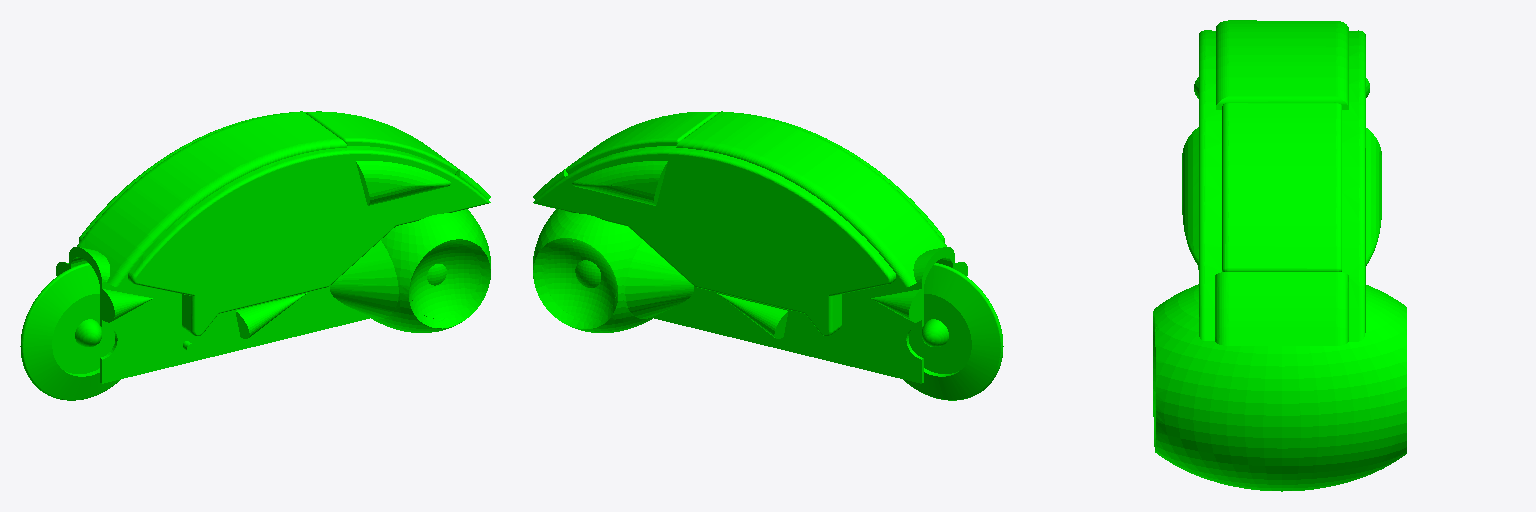
The robot description file, URDF, robot "hostile_agent":
<?xml version="1.0"?>
<robot name="hostile_agent">
  <!-- =============================================================================
       HOSTILE AGENT - AI-Controlled Sentinel Robot
       SLRC 2026 Competition | Contact: slrc@uom.lk
       Green (#00FF00) color for visual distinction
       ============================================================================= -->

  <!-- =========================
       Frames
       ========================= -->
  <!-- Unique root link name: avoids clashing with ares::base_footprint in Gazebo ECM
       (UserCommands /visual_config resolves parent links by Name only). -->
  <link name="hostile_base_footprint"/>

  <joint name="base_footprint_to_base" type="fixed">
    <parent link="hostile_base_footprint"/>
    <child link="base_link"/>
    <origin xyz="0 0 0" rpy="0 0 0"/>
  </joint>

  <!-- =========================
       Base link
       ========================= -->
  <link name="base_link">
    <inertial>
      <origin xyz="0 0 0.041" rpy="0 0 0"/>
      <mass value="4.0"/>
      <inertia ixx="0.003387" ixy="0.0" ixz="0.0"
               iyy="0.012987" iyz="0.0"
               izz="0.012000"/>
    </inertial>

    <visual name="lightcycle_visual">
      <origin xyz="-0.09 0.027 0" rpy="1.57 0 0"/>
      <geometry>
        <mesh filename="package://slrc_tron_sim/meshes/lightcycle.STL" scale="0.001 0.001 0.0015"/>
      </geometry>
      <!-- Bright green hostile color -->
      <material name="hostile_green">
        <color rgba="0.0 1.0 0.0 1.0"/>
      </material>
    </visual>

    <collision name="chassis_bbox">
      <origin xyz="0 0 0.041" rpy="0 0 0"/>
      <geometry>
        <box size="0.18 0.06 0.081"/>
      </geometry>
    </collision>
  </link>

  <!-- =========================
       Wheels (Diff Drive)
       ========================= -->
  <link name="left_wheel_link">
    <inertial>
      <origin xyz="0 0 0" rpy="0 0 0"/>
      <mass value="0.2"/>
      <inertia ixx="0.0001" ixy="0" ixz="0"
               iyy="0.0001" iyz="0"
               izz="0.0001"/>
    </inertial>

    <collision name="left_wheel_col">
      <origin xyz="0 0 0" rpy="1.5708 0 0"/>
      <geometry>
        <cylinder radius="0.033" length="0.02"/>
      </geometry>
      <surface>
        <friction>
          <ode>
            <mu>1.0</mu>
            <mu2>1.0</mu2>
            <fdir1>1 0 0</fdir1>
          </ode>
        </friction>
      </surface>
    </collision>
  </link>

  <link name="right_wheel_link">
    <inertial>
      <origin xyz="0 0 0" rpy="0 0 0"/>
      <mass value="0.2"/>
      <inertia ixx="0.0001" ixy="0" ixz="0"
               iyy="0.0001" iyz="0"
               izz="0.0001"/>
    </inertial>

    <collision name="right_wheel_col">
      <origin xyz="0 0 0" rpy="1.5708 0 0"/>
      <geometry>
        <cylinder radius="0.033" length="0.02"/>
      </geometry>
      <surface>
        <friction>
          <ode>
            <mu>1.0</mu>
            <mu2>1.0</mu2>
            <fdir1>1 0 0</fdir1>
          </ode>
        </friction>
      </surface>
    </collision>
  </link>

  <joint name="left_wheel_joint" type="continuous">
    <parent link="base_link"/>
    <child link="left_wheel_link"/>
    <origin xyz="0.0 0.05 0.033" rpy="0 0 0"/>
    <axis xyz="0 1 0"/>
  </joint>

  <joint name="right_wheel_joint" type="continuous">
    <parent link="base_link"/>
    <child link="right_wheel_link"/>
    <origin xyz="0 -0.05 0.033" rpy="0 0 0"/>
    <axis xyz="0 1 0"/>
  </joint>

  <!-- =========================
       Floor Camera (for line following)
       ========================= -->
  <link name="cam_floor_link"/>

  <joint name="cam_floor_fixed" type="fixed">
    <parent link="base_link"/>
    <child link="cam_floor_link"/>
    <origin xyz="0.15 0.0 0.18" rpy="0 1.5708 0"/>
  </joint>

  <!-- =========================
       IMU frame (for odometry)
       ========================= -->
  <link name="imu_link"/>
  <joint name="imu_fixed" type="fixed">
    <parent link="base_link"/>
    <child link="imu_link"/>
    <origin xyz="0 0 0.35" rpy="0 0 0"/>
  </joint>

  <!-- =========================================================
       Gazebo Sim (Ignition): Plugins
       ========================================================= -->

  <gazebo>
    <plugin
      filename="libignition-gazebo-diff-drive-system.so"
      name="ignition::gazebo::systems::DiffDrive">
      <left_joint>left_wheel_joint</left_joint>
      <right_joint>right_wheel_joint</right_joint>

      <wheel_separation>0.1</wheel_separation>
      <wheel_radius>0.033</wheel_radius>

      <topic>/hostile/cmd_vel</topic>
      <odom_topic>/hostile/odom</odom_topic>
      <tf_topic>/hostile/tf</tf_topic>
      <frame_id>odom</frame_id>
      <child_frame_id>hostile_base_footprint</child_frame_id>
      <odom_publish_frequency>100</odom_publish_frequency>

      <max_linear_acceleration>5</max_linear_acceleration>
      <max_angular_acceleration>10</max_angular_acceleration>
    </plugin>
  </gazebo>

  <!-- Floor camera for yellow line detection -->
  <gazebo reference="cam_floor_link">
    <sensor name="cam_floor" type="camera">
      <topic>/hostile/floor/image_raw</topic>
      <always_on>true</always_on>
      <update_rate>30</update_rate>
      <camera>
        <horizontal_fov>1.047</horizontal_fov>
        <image>
          <width>640</width>
          <height>480</height>
          <format>R8G8B8</format>
        </image>
        <clip>
          <near>0.02</near>
          <far>10</far>
        </clip>
      </camera>
    </sensor>
  </gazebo>

</robot>

--- What the picture shows (computed from the rendered views, not written in the file) ---
Views: 3 orthographic renders of the robot side by side, from view 1: azimuth 30°, elevation 25°; view 2: azimuth 150°, elevation 25°; view 3: azimuth 270°, elevation 25°.
Robot: hostile_agent — 6 links, 5 joints (2 continuous, 3 fixed); root link hostile_base_footprint; default pose: every joint at zero.
Links seen in each view (by area): view 1: base_link; view 2: base_link; view 3: base_link.
Boxes of the visible links, x1,y1,x2,y2 form: base_link: [20, 111, 490, 400]; base_link: [533, 111, 1003, 400]; base_link: [1153, 20, 1406, 491].
Size in the robot's own frame: 0.1749 by 0.0572 by 0.0814 metres.
Meshes: 1 distinct files referenced, 1 mesh visuals loaded (1 binary STL).
